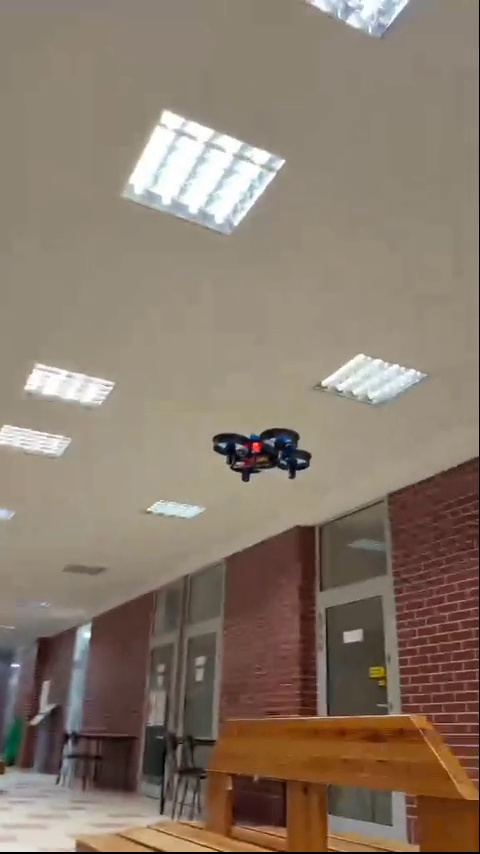drone: (213, 425, 313, 479)
